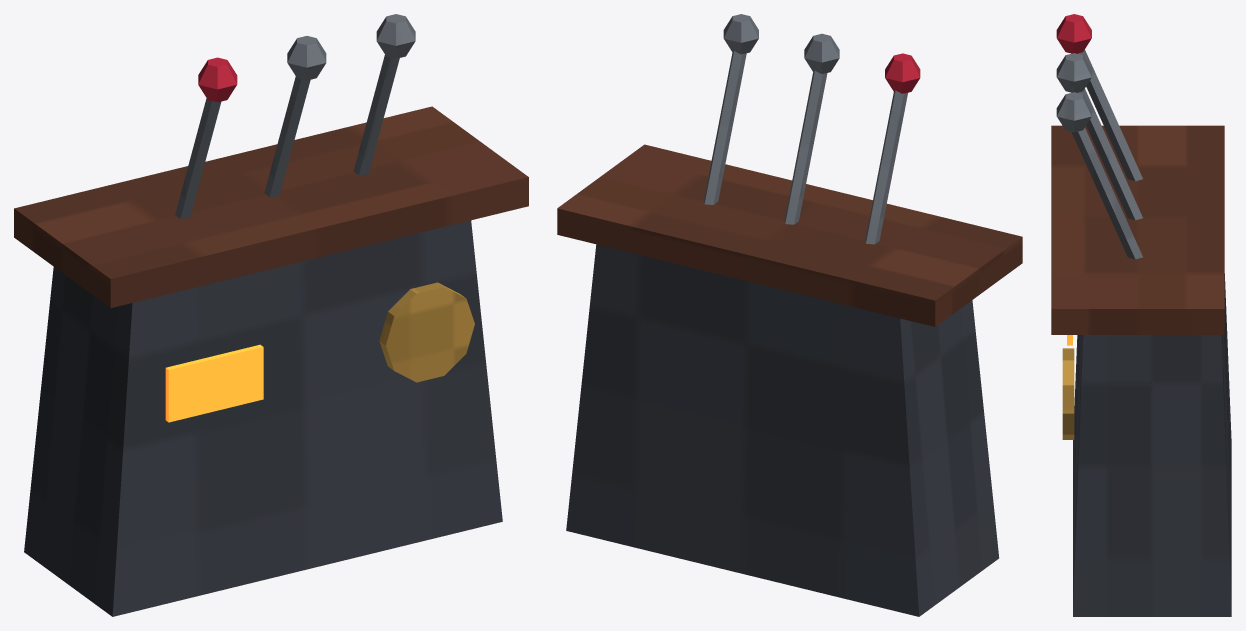
File: SM_Prop_WinchControls_HQ.glb
The picture shows the model from 3 angles, left to right: view 1: azimuth 30°, elevation 25°; view 2: azimuth 150°, elevation 25°; view 3: azimuth 270°, elevation 25°; orthographic projection. The views are drawn at different scales.
Parts seen in each view (by area): view 1: SM_Prop_WinchControls_HQ; view 2: SM_Prop_WinchControls_HQ; view 3: SM_Prop_WinchControls_HQ.
Boxes of the visible parts, <box> form: SM_Prop_WinchControls_HQ: <box>14,14,528,616</box>; SM_Prop_WinchControls_HQ: <box>557,14,1022,616</box>; SM_Prop_WinchControls_HQ: <box>1051,14,1231,616</box>.
Size of the model in its own units: 1.5 by 1.81 by 0.625.
Materials: 1 (1 with a texture image).
